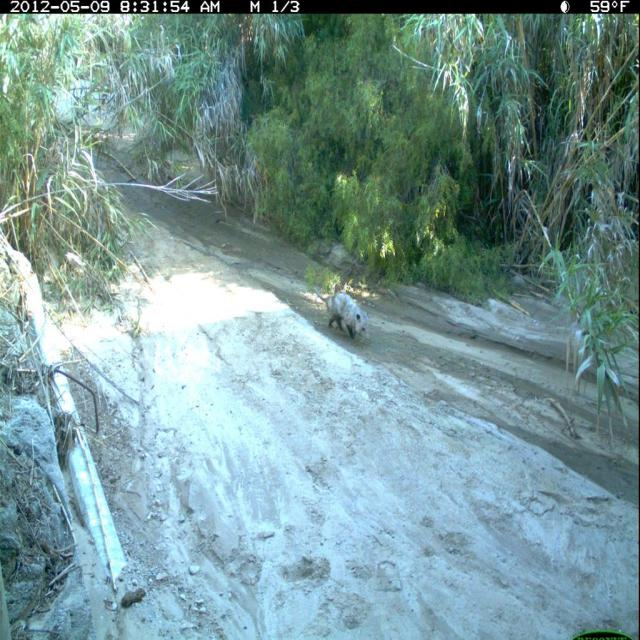opossum: (311, 285, 374, 350)
